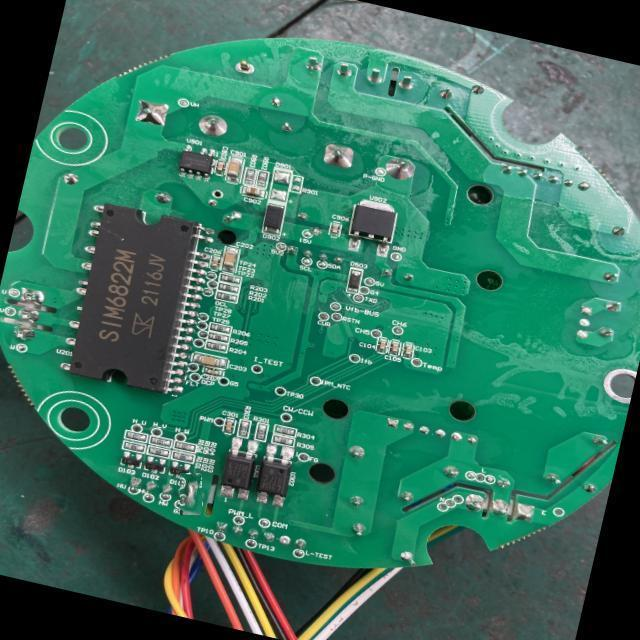damged: (175, 478, 207, 511)
